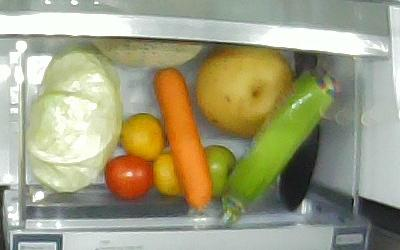cabbage: (26, 48, 120, 192)
carrot: (152, 67, 213, 212)
eggplant: (279, 52, 321, 211)
melon: (91, 37, 203, 65)
pear: (195, 43, 293, 137)
prune: (104, 155, 152, 198)
tangerine: (121, 113, 164, 160), (152, 151, 189, 196)
tomato: (202, 144, 236, 199)
zucchini: (221, 66, 339, 228)
